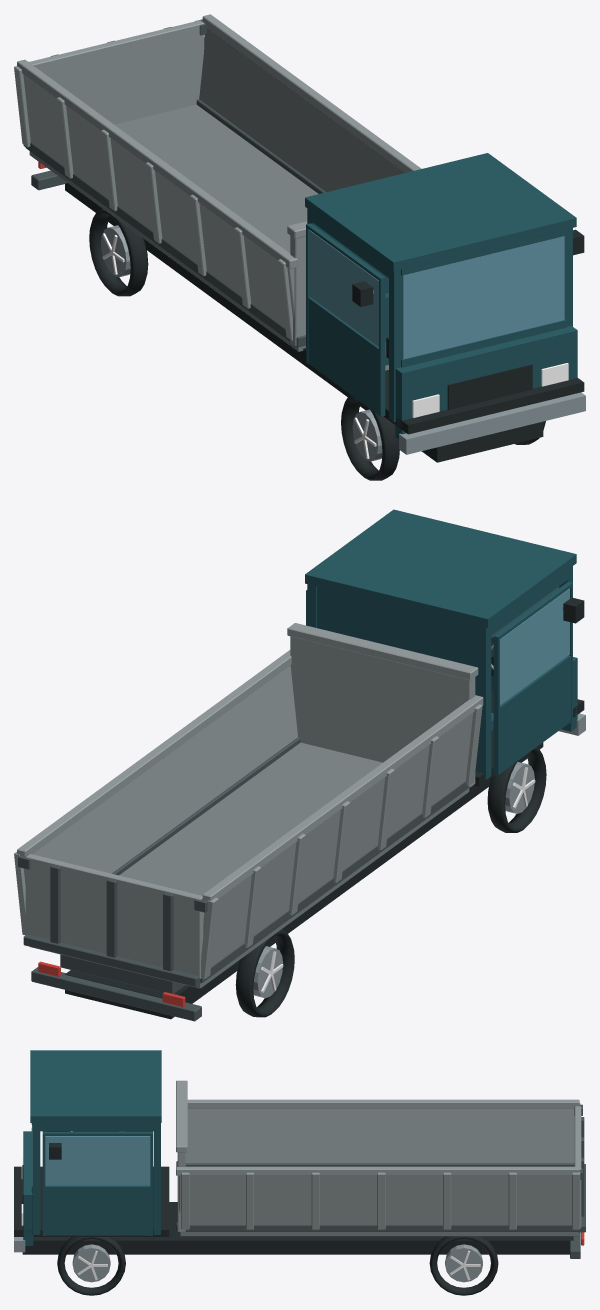
Rendered from sg-lorry-hd.glb.
3 renders of one model, top to bottom at view 1: azimuth 30°, elevation 25°; view 2: azimuth 150°, elevation 25°; view 3: azimuth 270°, elevation 25°, orthographic. The views are drawn at different scales.
Visible parts, largest first — view 1: body, wheel_RL, wheel_FL; view 2: body, wheel_RL, wheel_FL; view 3: body, wheel_RR, wheel_FR.
Part boxes in pixels (x1,y1,x2,y2): body: (14,14,585,462); wheel_RL: (89,208,148,296); wheel_FL: (341,395,399,480); body: (14,509,585,1021); wheel_RL: (235,929,294,1017); wheel_FL: (487,747,546,832); body: (14,1050,585,1258); wheel_RR: (429,1236,498,1295); wheel_FR: (57,1237,125,1295).
Size of the model in its own units: 3.05 by 3.26 by 9.14.
